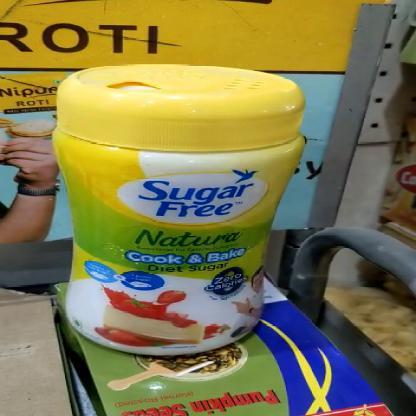SUGAR FREE NATURA DIET SUGAR 80GM: (48, 60, 312, 360)
